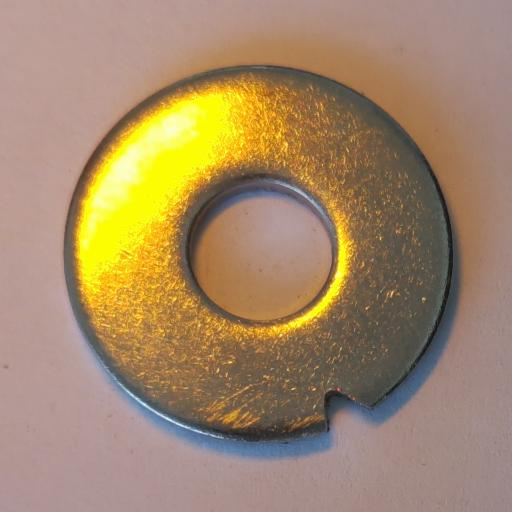burr: (323, 389, 373, 431)
